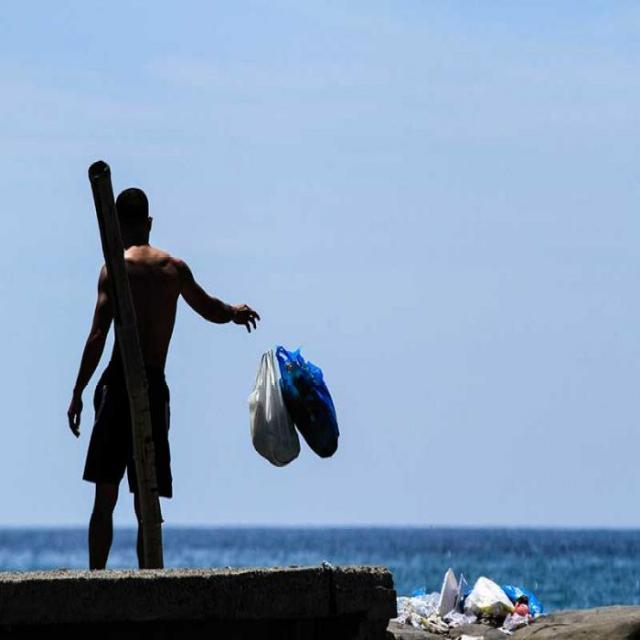sampah-detection: (248, 341, 344, 467), (394, 564, 547, 640)
